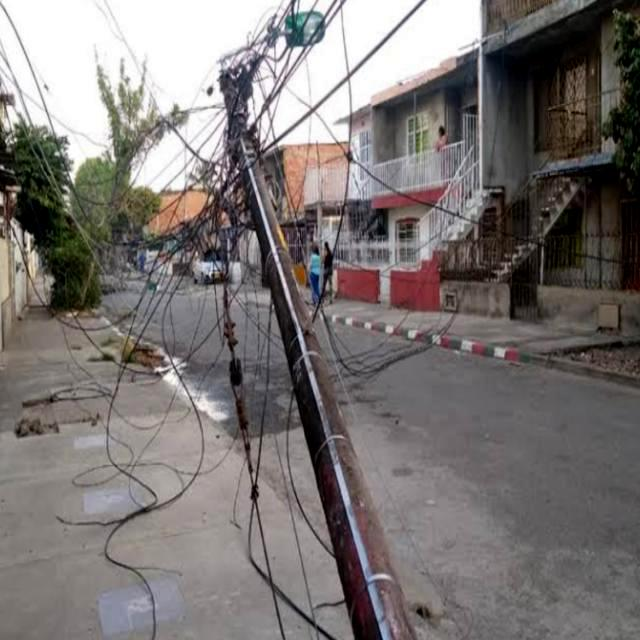Broken Pole: (171, 6, 422, 640)
